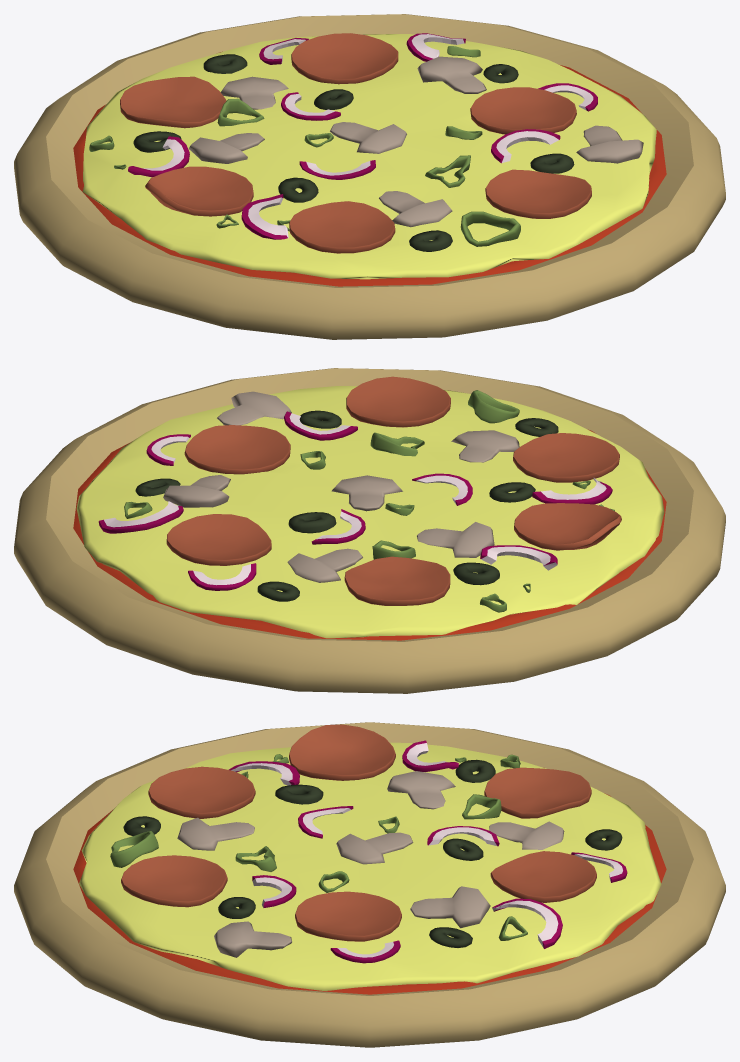
Rendered from pizza.glb.
The picture shows the model from 3 angles, top to bottom: view 1: azimuth 30°, elevation 25°; view 2: azimuth 150°, elevation 25°; view 3: azimuth 270°, elevation 25°; orthographic projection.
Parts seen in each view (by area): view 1: pCylinder1, pCylinder13, polySurface143, polySurface147, polySurface145, polySurface146, polySurface144, polySurface142, polySurface128, polySurface162, polySurface129, polySurface163 (+20 smaller); view 2: pCylinder1, pCylinder13, polySurface147, polySurface142, polySurface145, polySurface144, polySurface143, polySurface146, polySurface130, polySurface162, polySurface161, polySurface128 (+20 smaller); view 3: pCylinder1, pCylinder13, polySurface146, polySurface144, polySurface143, polySurface142, polySurface145, polySurface147, polySurface128, polySurface162, polySurface130, polySurface163 (+20 smaller).
Part boxes in pixels (left/top/right/bottom): pCylinder1: left=14, top=14, right=725, bottom=339; pCylinder13: left=82, top=34, right=656, bottom=279; polySurface143: left=289, top=201, right=395, bottom=253; polySurface147: left=291, top=33, right=398, bottom=84; polySurface145: left=120, top=76, right=226, bottom=128; polySurface146: left=145, top=166, right=253, bottom=216; polySurface144: left=485, top=169, right=591, bottom=218; polySurface142: left=470, top=87, right=576, bottom=134; polySurface128: left=417, top=56, right=486, bottom=93; polySurface162: left=576, top=125, right=643, bottom=163; polySurface129: left=379, top=191, right=452, bottom=227; polySurface163: left=330, top=122, right=406, bottom=153; pCylinder1: left=14, top=368, right=725, bottom=693; pCylinder13: left=76, top=386, right=664, bottom=638; polySurface147: left=166, top=514, right=271, bottom=565; polySurface142: left=184, top=425, right=290, bottom=474; polySurface145: left=344, top=556, right=450, bottom=605; polySurface144: left=346, top=376, right=450, bottom=427; polySurface143: left=513, top=433, right=619, bottom=482; polySurface146: left=514, top=503, right=621, bottom=550; polySurface130: left=416, top=522, right=494, bottom=557; polySurface162: left=217, top=391, right=291, bottom=425; polySurface161: left=287, top=548, right=362, bottom=582; polySurface128: left=163, top=475, right=230, bottom=507; pCylinder1: left=14, top=722, right=725, bottom=1047; pCylinder13: left=79, top=742, right=661, bottom=990; polySurface146: left=289, top=724, right=395, bottom=780; polySurface144: left=121, top=855, right=227, bottom=907; polySurface143: left=148, top=766, right=255, bottom=818; polySurface142: left=295, top=891, right=401, bottom=941; polySurface145: left=484, top=767, right=591, bottom=818; polySurface147: left=490, top=851, right=596, bottom=902; polySurface128: left=410, top=886, right=490, bottom=928; polySurface162: left=214, top=921, right=291, bottom=957; polySurface130: left=387, top=771, right=455, bottom=809; polySurface163: left=336, top=832, right=413, bottom=864.
Size of the model in its own units: 0.1 by 0.0105 by 0.1.
